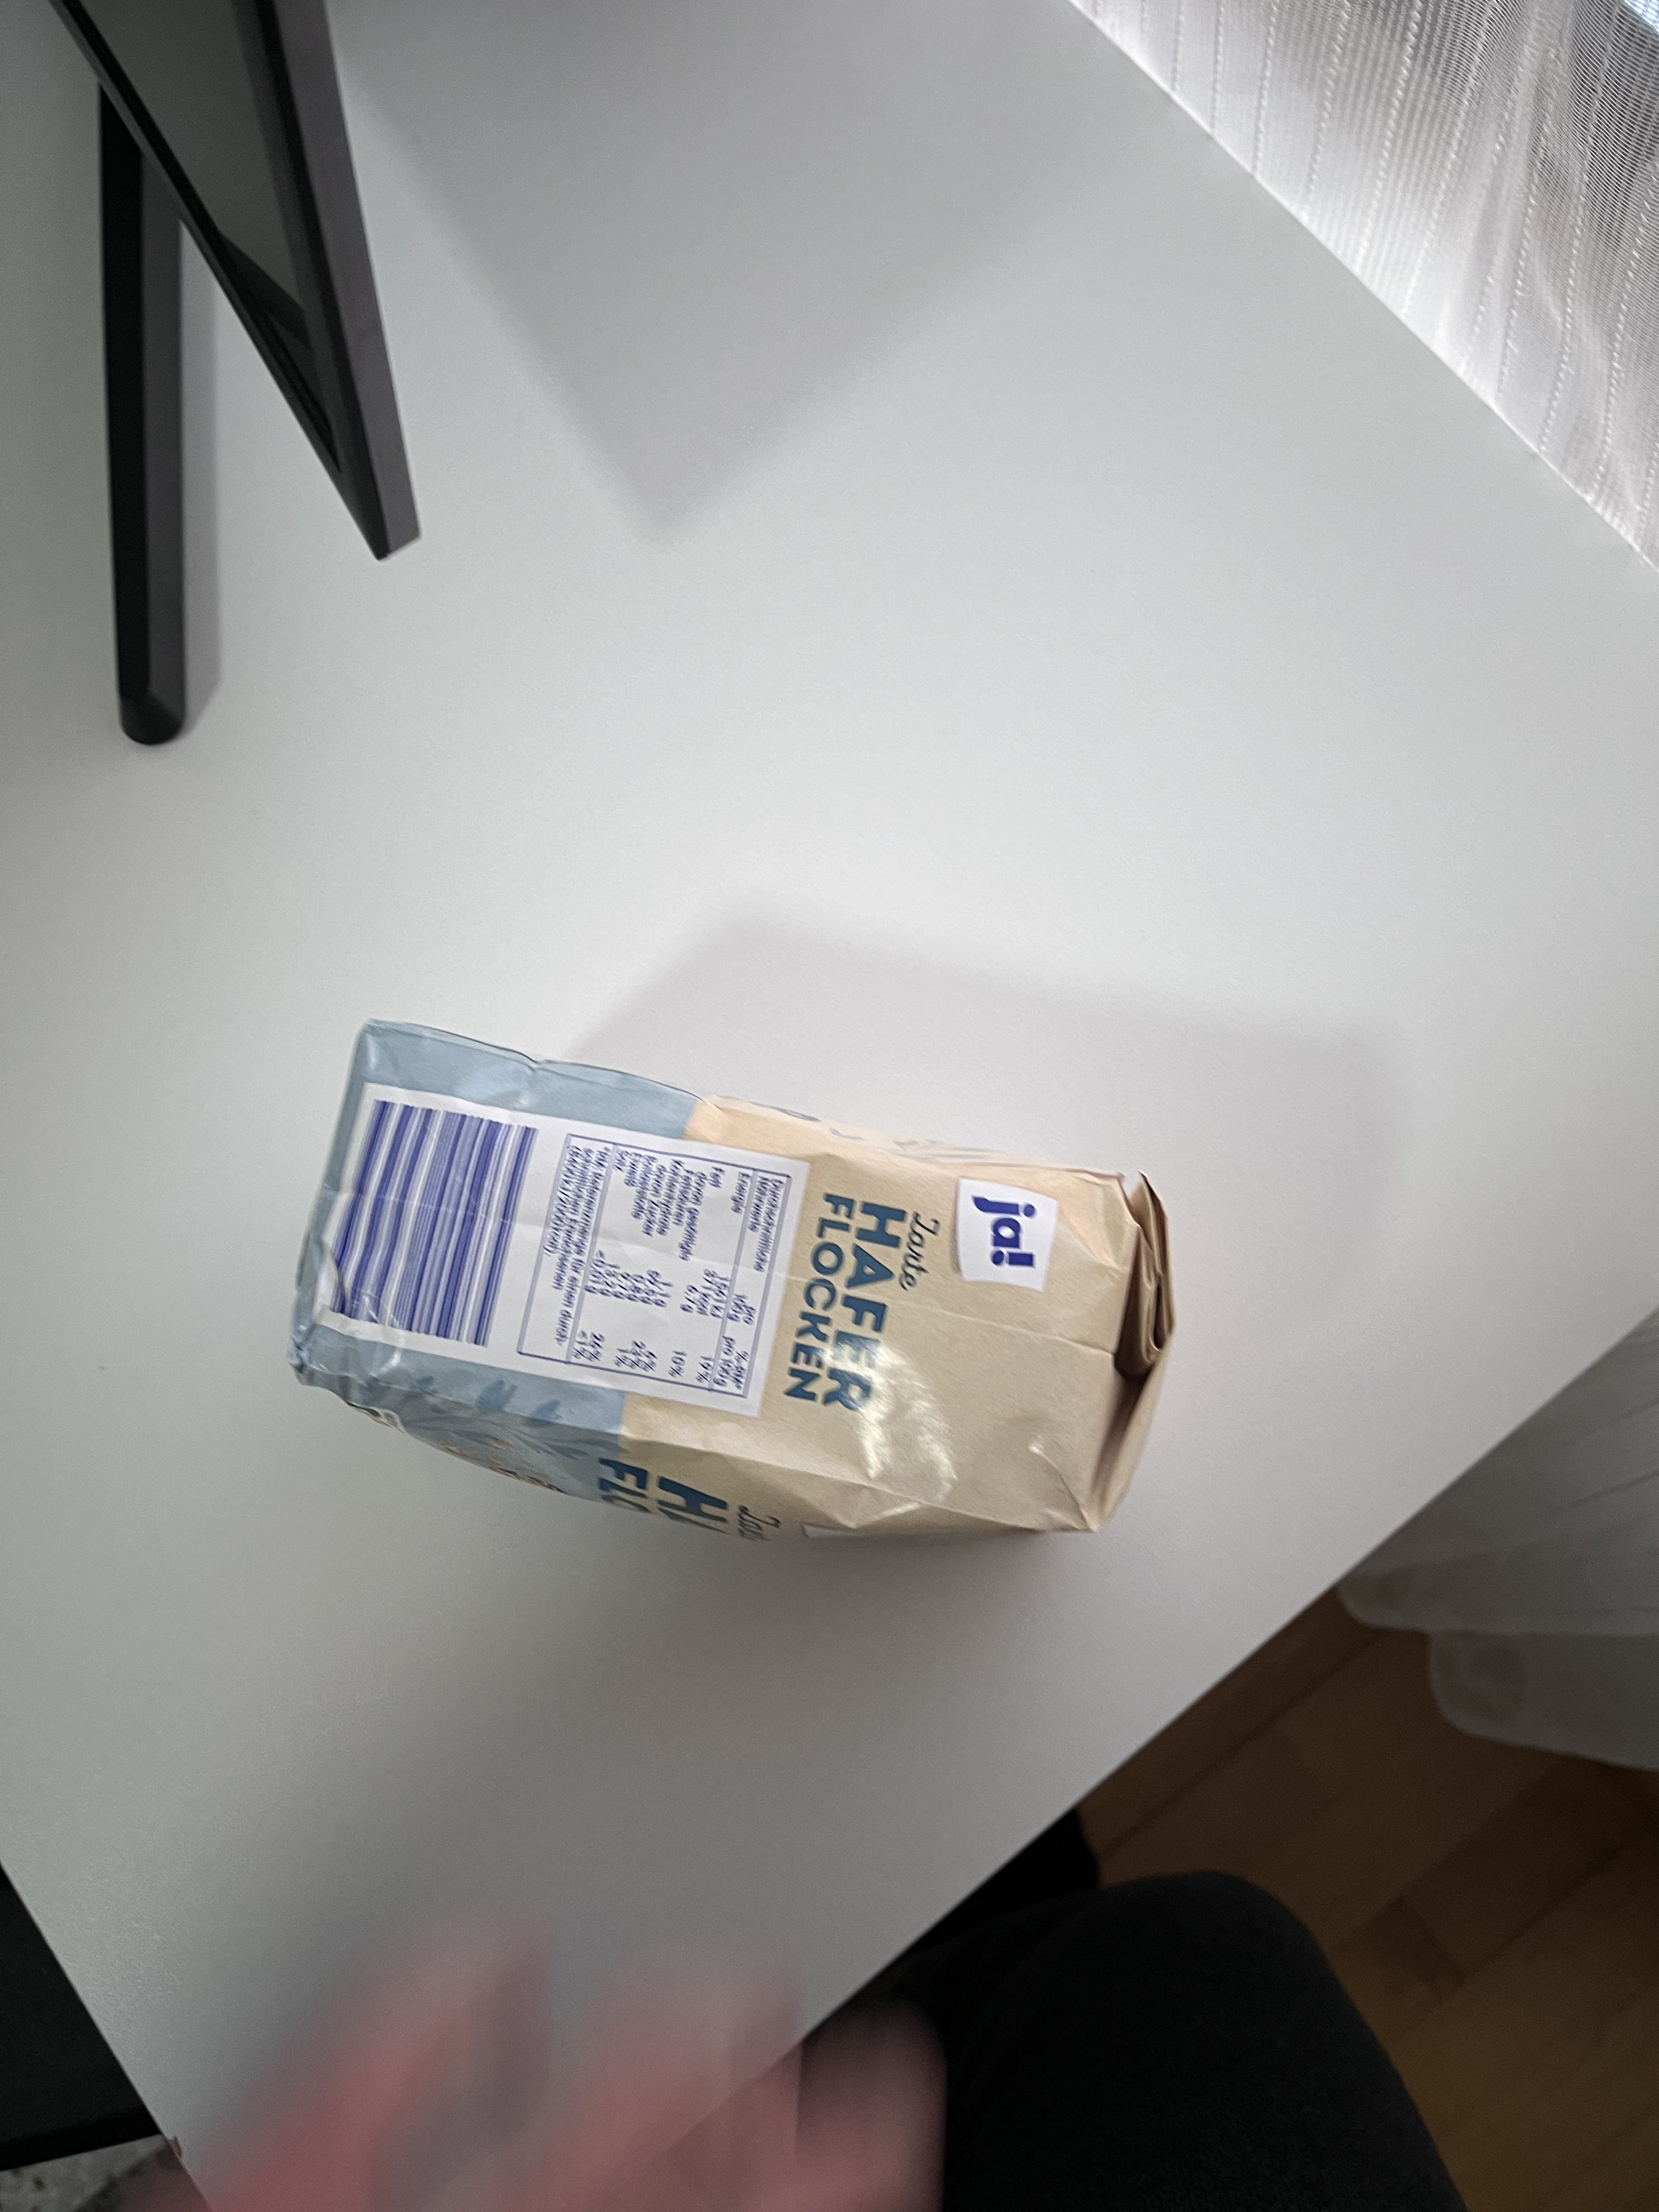haferflocken_ja: (289, 1017, 1173, 1552)
